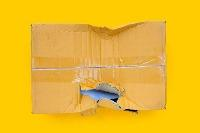damaged package: (73, 82, 138, 114)
undamaged: (25, 17, 170, 118)
